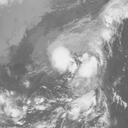cyclone: (52, 42, 101, 100)
